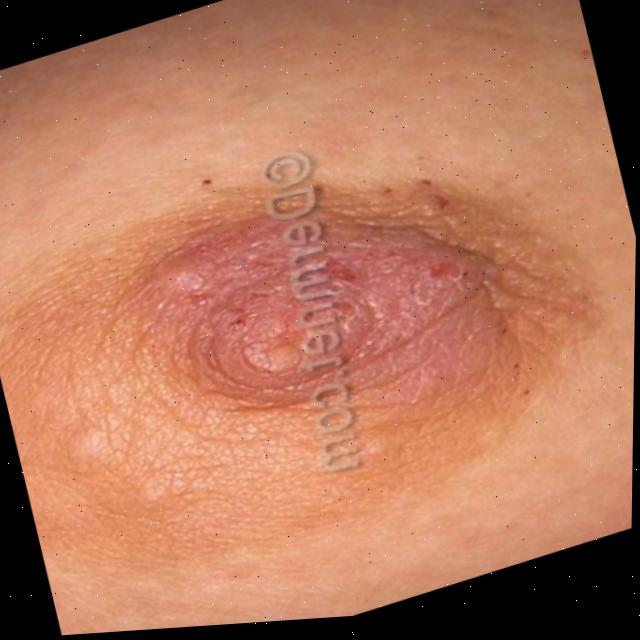Eczema: (174, 128, 510, 471)
